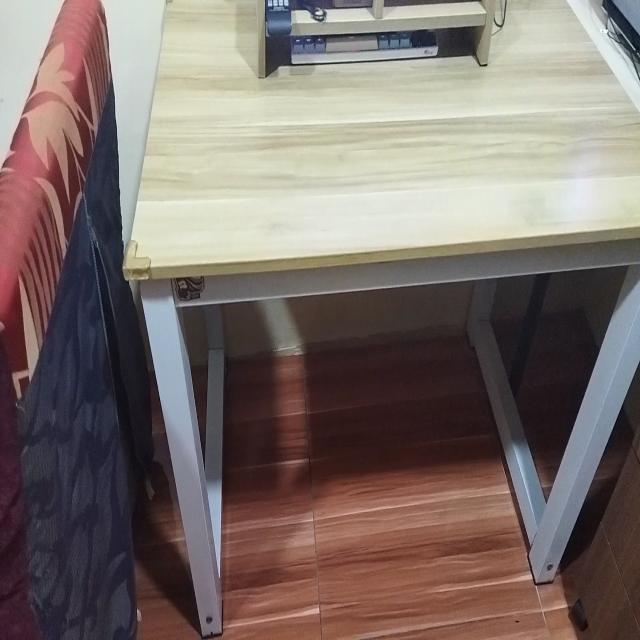table: (120, 0, 640, 621)
